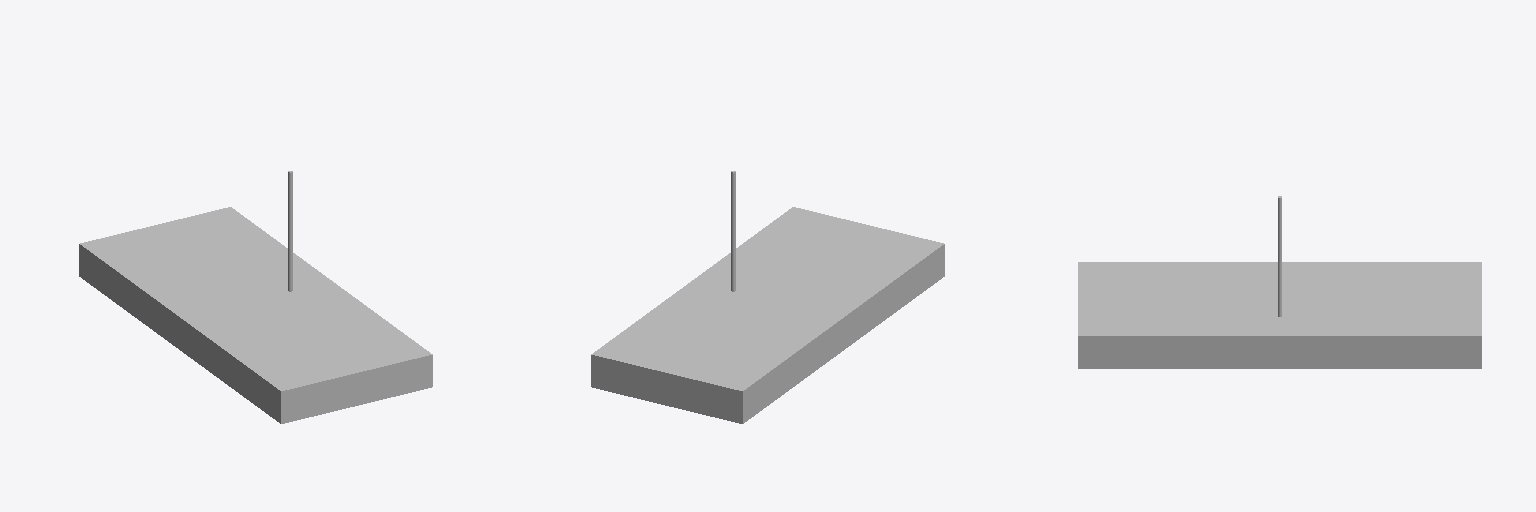
Rendered from Палка1.obj.
3 views of the same model, side by side, from view 1: azimuth 30°, elevation 25°; view 2: azimuth 150°, elevation 25°; view 3: azimuth 270°, elevation 25° (orthographic).
Visible parts, largest first — view 1: Cube_Cube.001, Sphere.001; view 2: Cube_Cube.001, Sphere.001; view 3: Cube_Cube.001.
Boxes of the visible parts, x1=… form: Cube_Cube.001: x1=79, y1=207, x2=432, y2=423; Sphere.001: x1=288, y1=171, x2=292, y2=291; Cube_Cube.001: x1=591, y1=207, x2=944, y2=423; Sphere.001: x1=731, y1=171, x2=735, y2=291; Cube_Cube.001: x1=1078, y1=262, x2=1481, y2=368.
Size of the model in its own units: 0.8662 by 0.8303 by 2.